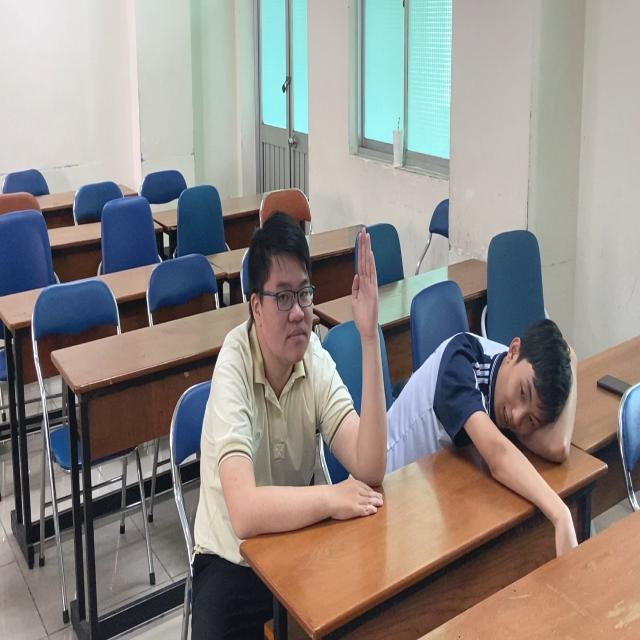raise_hand: (191, 199, 393, 546)
sleep: (395, 287, 596, 524)
